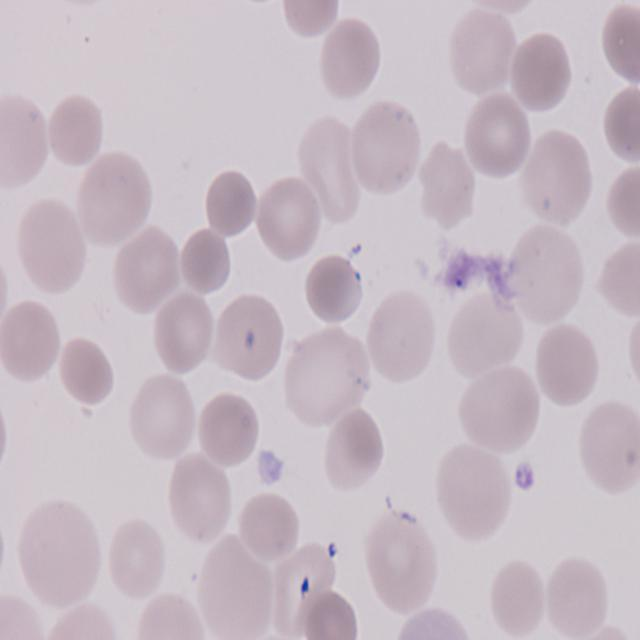RBC: (19, 496, 107, 610), (195, 527, 278, 640), (279, 326, 365, 434), (432, 442, 512, 548), (508, 225, 588, 328), (74, 150, 153, 252), (362, 510, 435, 618), (365, 286, 441, 384), (462, 366, 542, 459), (350, 98, 424, 198), (523, 124, 596, 224), (208, 290, 286, 383), (450, 6, 521, 102), (168, 454, 238, 550), (22, 201, 92, 296), (125, 374, 198, 464), (577, 398, 640, 502), (111, 226, 182, 318), (306, 116, 362, 230), (322, 402, 387, 500), (415, 138, 480, 235), (463, 91, 532, 181), (256, 176, 324, 264), (541, 558, 612, 640), (0, 301, 65, 390), (508, 31, 575, 117), (106, 517, 172, 604), (319, 14, 384, 102), (535, 324, 602, 408), (154, 288, 218, 375), (198, 390, 264, 472), (0, 94, 52, 195), (489, 557, 550, 640), (47, 94, 107, 173), (238, 490, 300, 564), (56, 336, 114, 409), (129, 587, 206, 640), (600, 2, 640, 90), (596, 242, 640, 322), (602, 168, 640, 244), (282, 0, 342, 48), (627, 311, 640, 403)
Spherocyte: (304, 250, 366, 330), (203, 170, 259, 240), (180, 226, 234, 298), (600, 85, 640, 165), (304, 589, 362, 640)
WBC: (378, 607, 493, 640)
